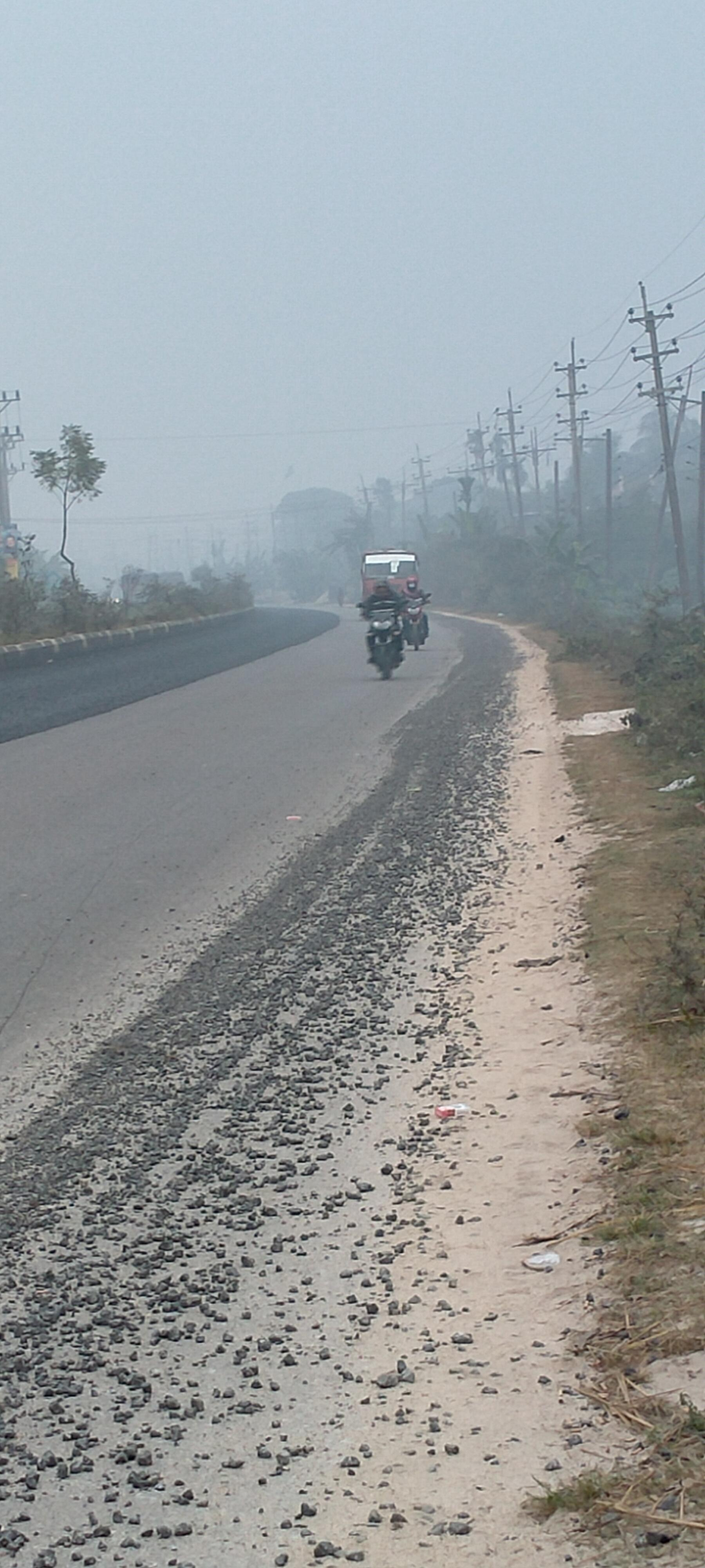Bike: (362, 572, 408, 689), (400, 572, 437, 660)
Bus: (357, 539, 429, 627)
